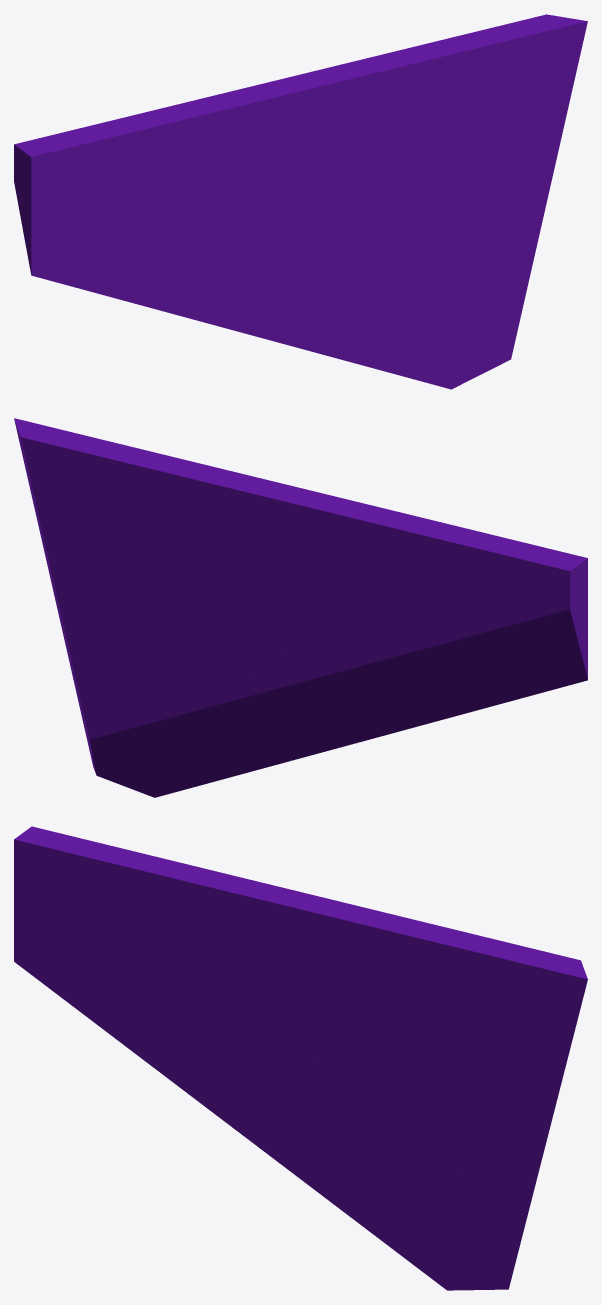
File: ElevatorWall_2_2_chunks.fbx
The picture shows the model from 3 angles, top to bottom: view 1: azimuth 30°, elevation 25°; view 2: azimuth 150°, elevation 25°; view 3: azimuth 330°, elevation 25°; orthographic projection. The views are drawn at different scales.
Visible parts, largest first — view 1: ElevatorWall_2_2_9, ElevatorWall_2_2_4, ElevatorWall_2_2_3, ElevatorWall_2_2_5, ElevatorWall_2_2_1, ElevatorWall_2_2_12, ElevatorWall_2_2_11, ElevatorWall_2_2_6, ElevatorWall_2_2_2, ElevatorWall_2_2_7; view 2: ElevatorWall_2_2_4, ElevatorWall_2_2_12, ElevatorWall_2_2_0, ElevatorWall_2_2_9, ElevatorWall_2_2_11, ElevatorWall_2_2_5, ElevatorWall_2_2_10, ElevatorWall_2_2_1, ElevatorWall_2_2_2, ElevatorWall_2_2_6, ElevatorWall_2_2_8, ElevatorWall_2_2_3 (+1 smaller); view 3: ElevatorWall_2_2_9, ElevatorWall_2_2_4, ElevatorWall_2_2_3, ElevatorWall_2_2_5, ElevatorWall_2_2_1, ElevatorWall_2_2_12, ElevatorWall_2_2_11, ElevatorWall_2_2_6, ElevatorWall_2_2_2, ElevatorWall_2_2_7.
Boxes of the visible parts, bbox=[...] form: ElevatorWall_2_2_9: bbox=[14, 134, 219, 319]; ElevatorWall_2_2_4: bbox=[330, 14, 587, 152]; ElevatorWall_2_2_3: bbox=[421, 73, 575, 289]; ElevatorWall_2_2_5: bbox=[204, 227, 410, 365]; ElevatorWall_2_2_1: bbox=[308, 67, 429, 251]; ElevatorWall_2_2_12: bbox=[63, 72, 315, 195]; ElevatorWall_2_2_11: bbox=[195, 131, 318, 322]; ElevatorWall_2_2_6: bbox=[363, 293, 525, 389]; ElevatorWall_2_2_2: bbox=[400, 210, 523, 288]; ElevatorWall_2_2_7: bbox=[398, 251, 526, 295]; ElevatorWall_2_2_4: bbox=[14, 418, 246, 579]; ElevatorWall_2_2_12: bbox=[265, 487, 522, 609]; ElevatorWall_2_2_0: bbox=[71, 595, 287, 721]; ElevatorWall_2_2_9: bbox=[407, 540, 587, 725]; ElevatorWall_2_2_11: bbox=[263, 538, 419, 728]; ElevatorWall_2_2_5: bbox=[184, 663, 409, 772]; ElevatorWall_2_2_10: bbox=[374, 558, 552, 684]; ElevatorWall_2_2_1: bbox=[168, 475, 295, 618]; ElevatorWall_2_2_2: bbox=[58, 568, 188, 695]; ElevatorWall_2_2_6: bbox=[79, 704, 245, 797]; ElevatorWall_2_2_8: bbox=[86, 703, 208, 745]; ElevatorWall_2_2_3: bbox=[26, 474, 102, 691]; ElevatorWall_2_2_9: bbox=[14, 826, 207, 1089]; ElevatorWall_2_2_4: bbox=[355, 906, 587, 1035]; ElevatorWall_2_2_3: bbox=[416, 1027, 575, 1225]; ElevatorWall_2_2_5: bbox=[192, 1056, 405, 1220]; ElevatorWall_2_2_1: bbox=[306, 900, 424, 1122]; ElevatorWall_2_2_12: bbox=[79, 839, 334, 973]; ElevatorWall_2_2_11: bbox=[182, 956, 310, 1096]; ElevatorWall_2_2_6: bbox=[356, 1170, 523, 1290]; ElevatorWall_2_2_2: bbox=[394, 1091, 521, 1222]; ElevatorWall_2_2_7: bbox=[392, 1121, 524, 1230].
Size of the model in its own units: 1064 by 612 by 57.27.
